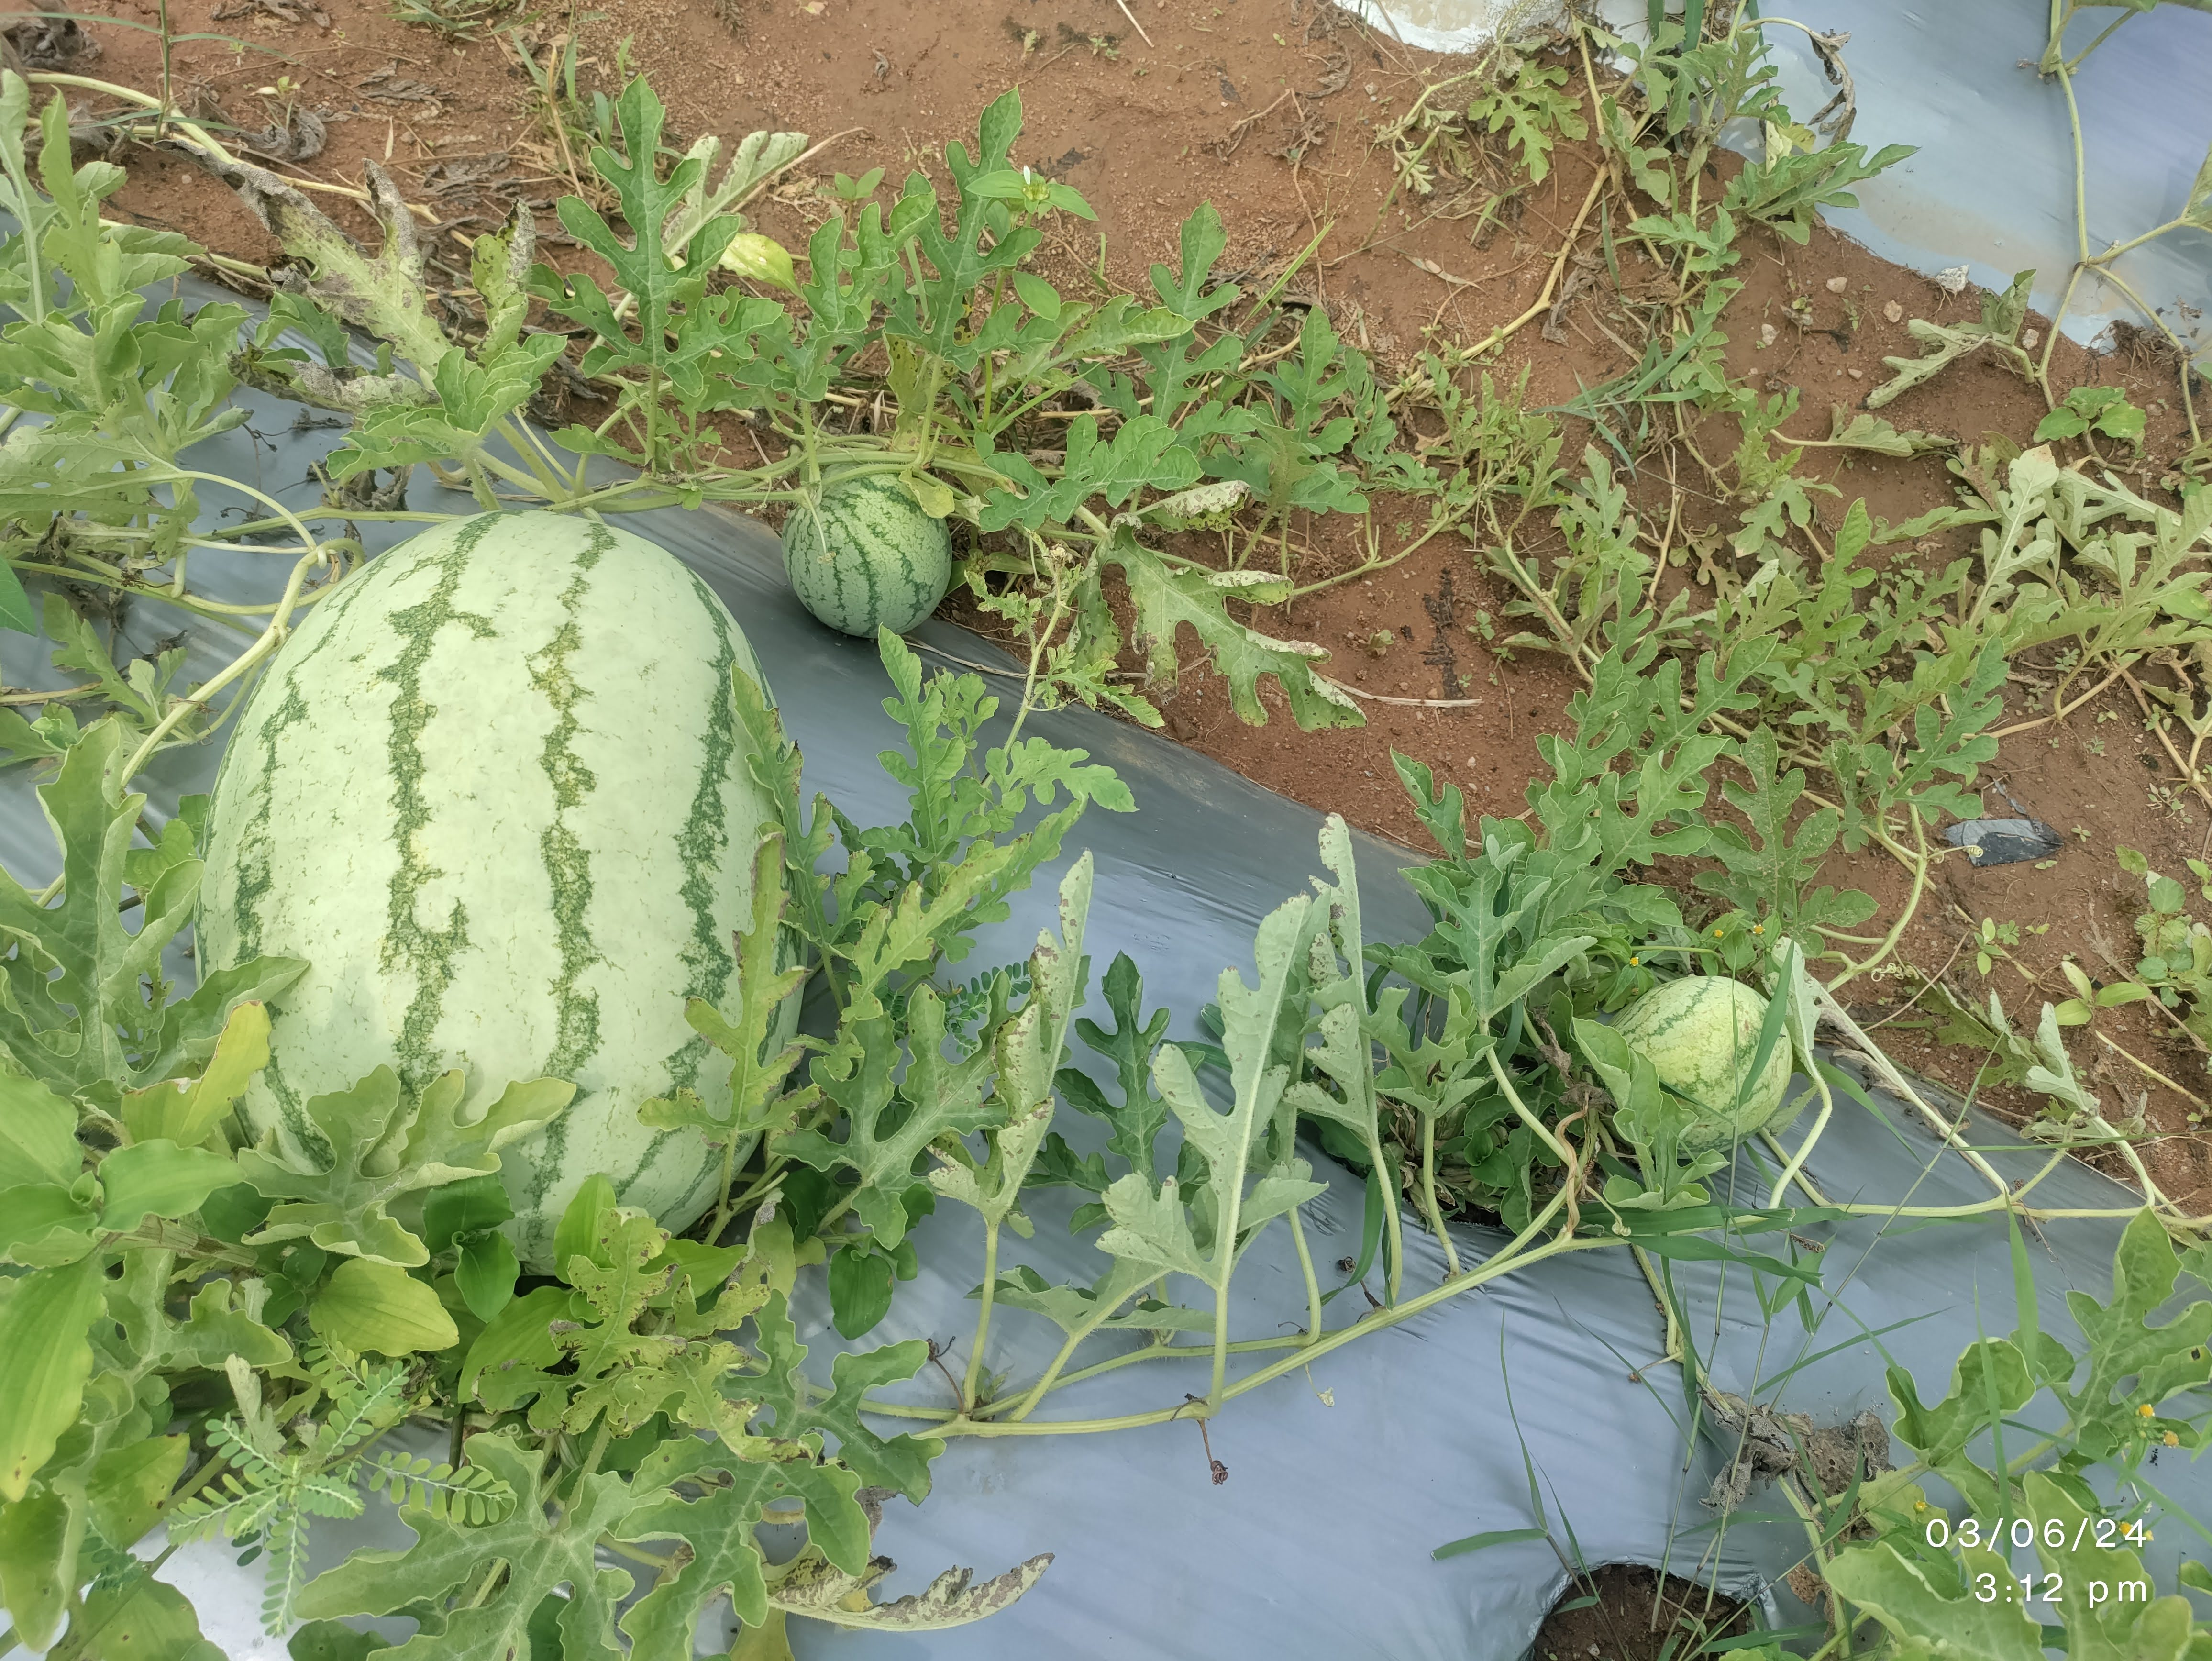good-to-harvest: (197, 473, 818, 1277)
not-good-to-harvest: (1584, 914, 1868, 1209), (769, 431, 1007, 654)
